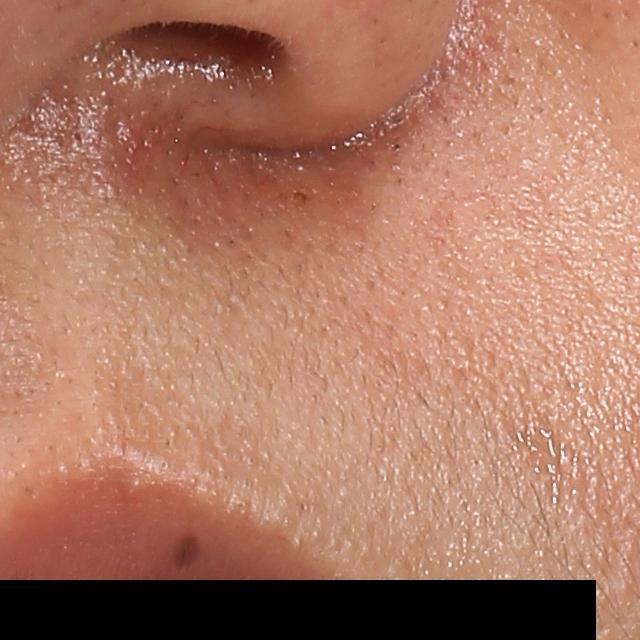nevus: (173, 535, 205, 569)
